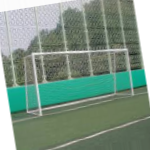goals: (23, 46, 137, 117)
